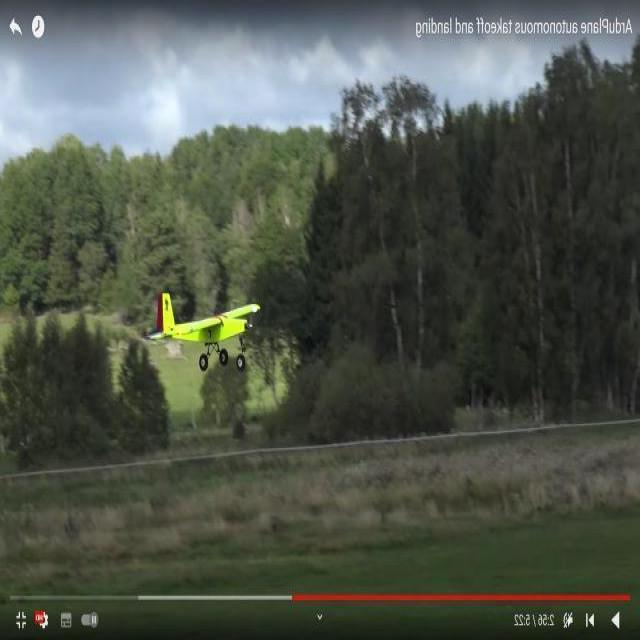iha: (128, 324, 261, 360)
